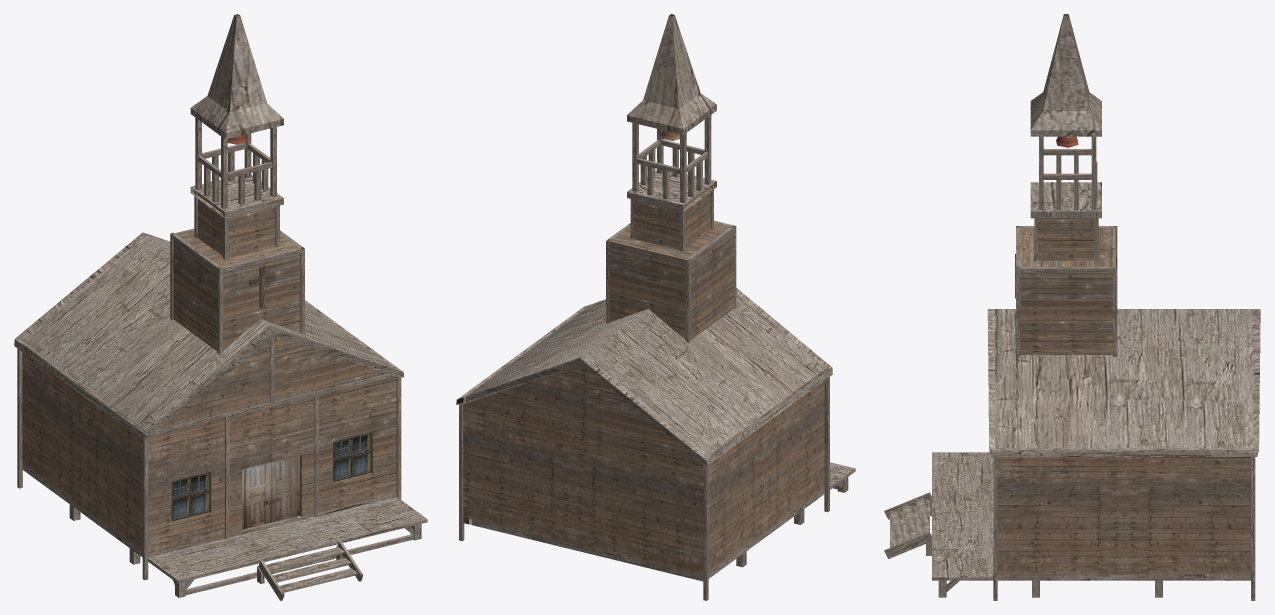
The model's file is church.walls-v1.lod0.glb.
The picture shows the model from 3 angles, left to right: view 1: azimuth 30°, elevation 25°; view 2: azimuth 150°, elevation 25°; view 3: azimuth 270°, elevation 25°; orthographic projection. The views are drawn at different scales.
Visible parts, largest first — view 1: Object079_Material #30_0; view 2: Object079_Material #30_0; view 3: Object079_Material #30_0.
Part boxes in pixels (bbox=[...]): Object079_Material #30_0: bbox=[14, 14, 427, 600]; Object079_Material #30_0: bbox=[456, 14, 855, 600]; Object079_Material #30_0: bbox=[884, 14, 1260, 600].
Size of the model in its own units: 8.52 by 16 by 10.38.
Materials: 1 (1 with a texture image).
